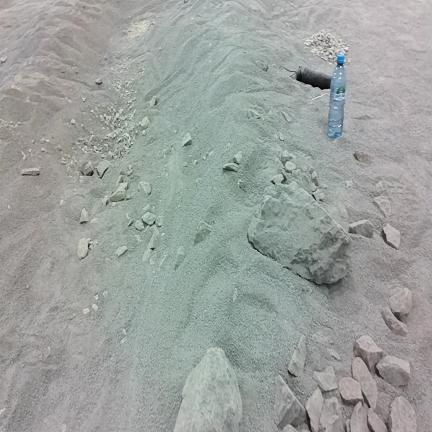Rock: (248, 182, 350, 284), (174, 348, 242, 431), (275, 376, 306, 429), (353, 357, 377, 409), (377, 356, 410, 386), (354, 336, 383, 370), (389, 397, 416, 431), (320, 397, 344, 432), (288, 335, 306, 376), (306, 389, 323, 431), (389, 288, 412, 319), (382, 307, 407, 335), (339, 377, 363, 405), (314, 366, 338, 391), (350, 402, 368, 431), (368, 408, 388, 432), (383, 224, 400, 249), (349, 220, 374, 237), (292, 169, 312, 190), (195, 221, 211, 244), (373, 196, 391, 216), (110, 183, 126, 202), (263, 164, 278, 181), (77, 238, 88, 260), (97, 161, 111, 178), (175, 247, 185, 269), (354, 151, 371, 163), (79, 161, 93, 175), (142, 212, 156, 225), (272, 145, 283, 160), (281, 150, 292, 165), (148, 234, 158, 249), (312, 189, 324, 201), (139, 182, 151, 194), (116, 178, 128, 190), (22, 167, 40, 175), (255, 60, 268, 71), (278, 167, 289, 180), (327, 349, 340, 360), (142, 249, 152, 262), (140, 117, 150, 130), (311, 171, 319, 187), (116, 246, 127, 257), (116, 175, 127, 186), (285, 161, 295, 173), (272, 174, 284, 184), (150, 225, 160, 237), (223, 163, 238, 171), (182, 133, 191, 146), (80, 209, 88, 223), (249, 109, 260, 119), (233, 152, 242, 164), (375, 181, 384, 192), (135, 220, 144, 231), (237, 179, 246, 190), (89, 239, 98, 249), (282, 112, 291, 122), (156, 216, 164, 227), (282, 425, 296, 431), (118, 167, 127, 175), (150, 96, 157, 106), (102, 196, 109, 206), (300, 164, 308, 172), (143, 204, 150, 213), (308, 166, 315, 174), (311, 184, 317, 192), (346, 420, 350, 431), (92, 304, 98, 311), (128, 219, 134, 226), (55, 145, 62, 151), (346, 181, 353, 187), (96, 78, 102, 85), (279, 133, 284, 141), (90, 218, 98, 223), (99, 114, 104, 122), (0, 57, 6, 63), (83, 308, 89, 314), (72, 159, 78, 165), (126, 213, 131, 220), (330, 50, 335, 56), (60, 198, 64, 205), (318, 36, 325, 40), (103, 291, 107, 297), (71, 119, 75, 125), (327, 33, 331, 39), (321, 57, 327, 61), (338, 38, 342, 44), (142, 130, 146, 135), (112, 108, 116, 113), (93, 146, 97, 151), (61, 156, 66, 160), (128, 170, 132, 175), (319, 46, 323, 51), (313, 39, 318, 43), (341, 49, 345, 54), (344, 47, 348, 52), (331, 39, 334, 45), (111, 126, 115, 130), (71, 161, 75, 165), (323, 52, 327, 56), (133, 110, 136, 115), (116, 113, 119, 118), (61, 161, 66, 164), (129, 164, 132, 169), (323, 42, 326, 47), (111, 106, 114, 110), (82, 97, 85, 101), (90, 110, 94, 113), (307, 42, 310, 46), (329, 42, 331, 47), (46, 140, 49, 142)
